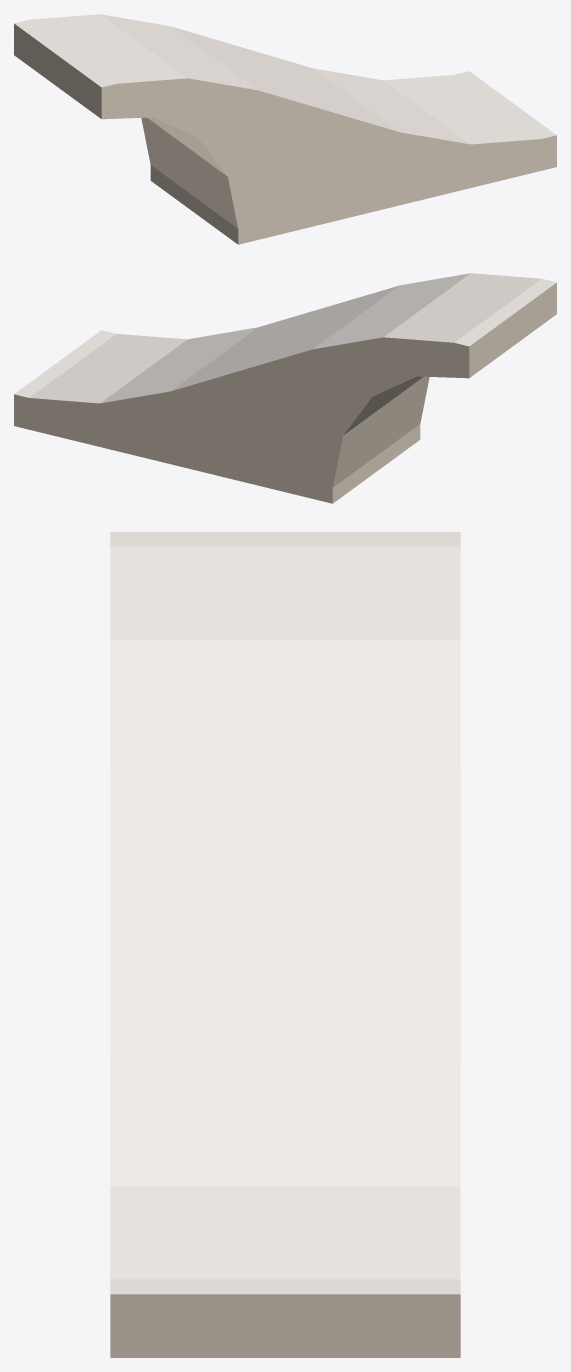
Rendered from Floor_Bridge_Ramp.glb.
3 renders of one model, top to bottom at view 1: azimuth 30°, elevation 25°; view 2: azimuth 150°, elevation 25°; view 3: azimuth 270°, elevation 25°, orthographic. The views are drawn at different scales.
Parts seen in each view (by area): view 1: Floor_Bridge_Ramp; view 2: Floor_Bridge_Ramp; view 3: Floor_Bridge_Ramp.
Boxes of the visible parts, x1,y1,x2,y2 form: Floor_Bridge_Ramp: (14,14,556,244); Floor_Bridge_Ramp: (14,273,556,503); Floor_Bridge_Ramp: (110,532,460,1357).
Size of the model in its own units: 3 by 1.2 by 1.
